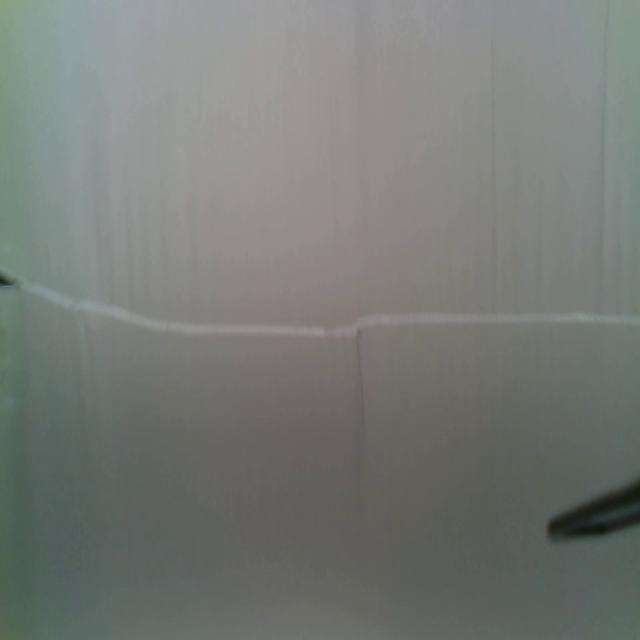crease: (596, 2, 612, 250), (485, 35, 501, 280), (354, 333, 368, 437)
hole: (0, 274, 20, 290)
